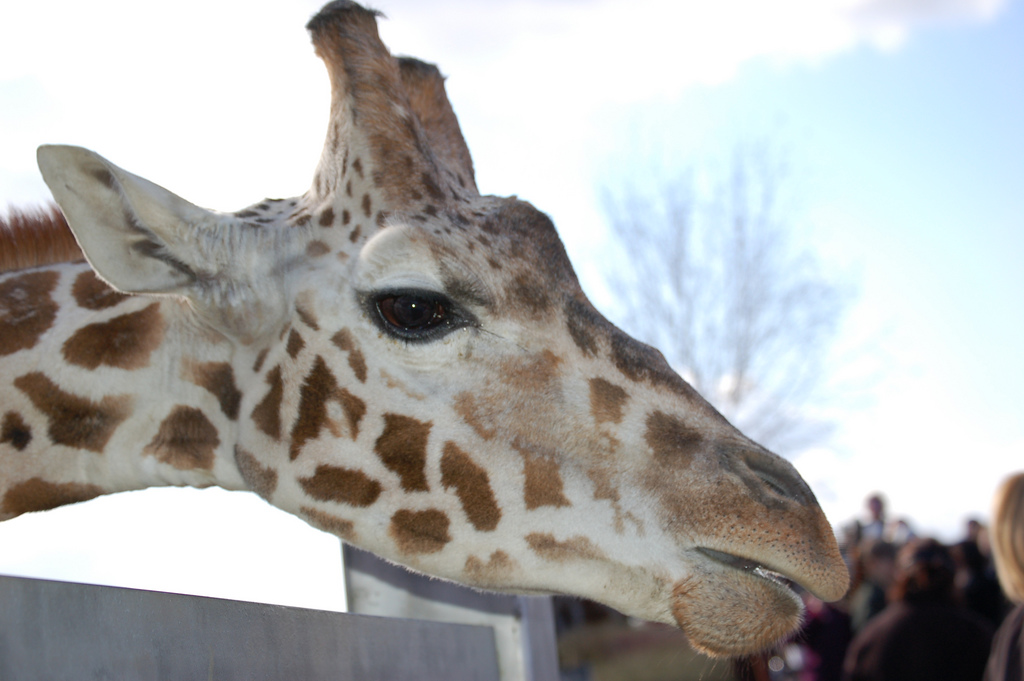giraffe: (26, 1, 868, 650)
